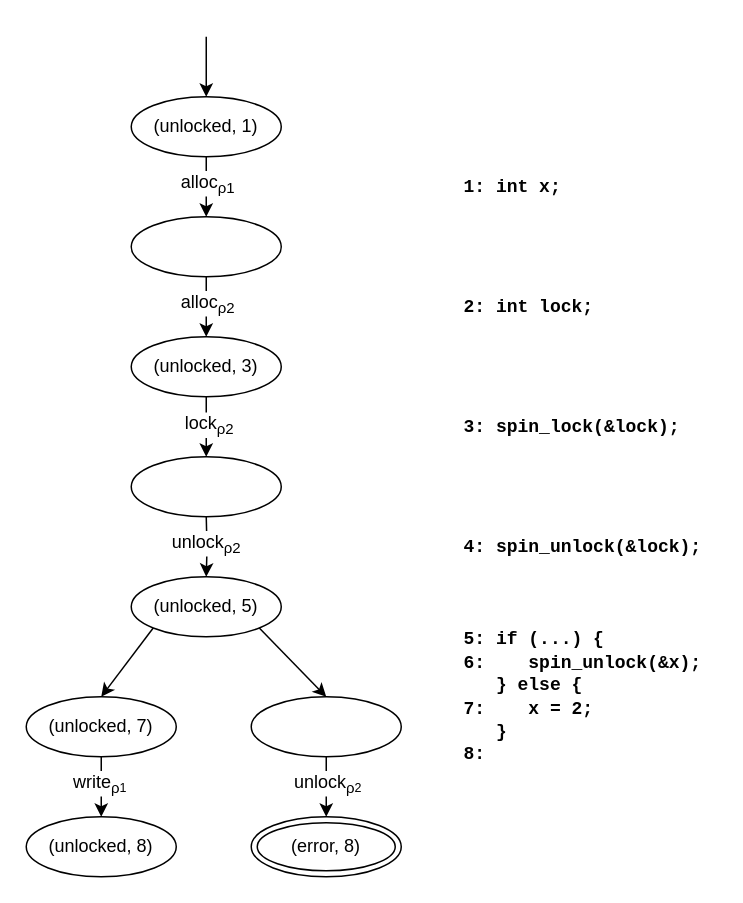
This 743x903 diagram has some shape labels left out. The centre of each missing label's shape, as x and y in pixels:
"(locked, 4)" belongs at (205,486).
"(unlocked, 2 )" belongs at (205,246).
"(unlocked, 6)" belongs at (325,726).
